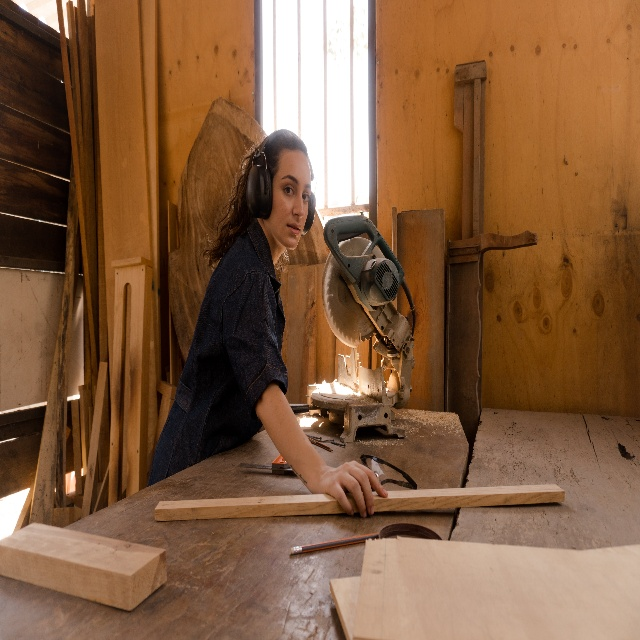Gafas: (359, 452, 416, 491)
Sin_guantes: (314, 460, 389, 518)
